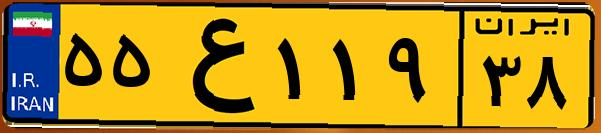1: (270, 28, 330, 110), (330, 28, 385, 110)
3: (475, 38, 525, 113)
5: (57, 26, 110, 100), (110, 28, 158, 98)
8: (525, 38, 570, 115)
9: (385, 28, 445, 110)
ع: (158, 12, 270, 120)
